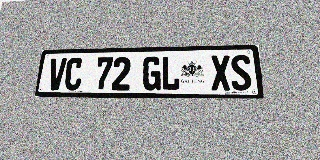2: (112, 57, 131, 90)
7: (94, 57, 113, 90)
C: (64, 58, 84, 90)
G: (142, 56, 161, 90)
L: (161, 56, 180, 90)
S: (230, 55, 252, 91)
V: (47, 58, 67, 90)
X: (210, 55, 231, 91)
